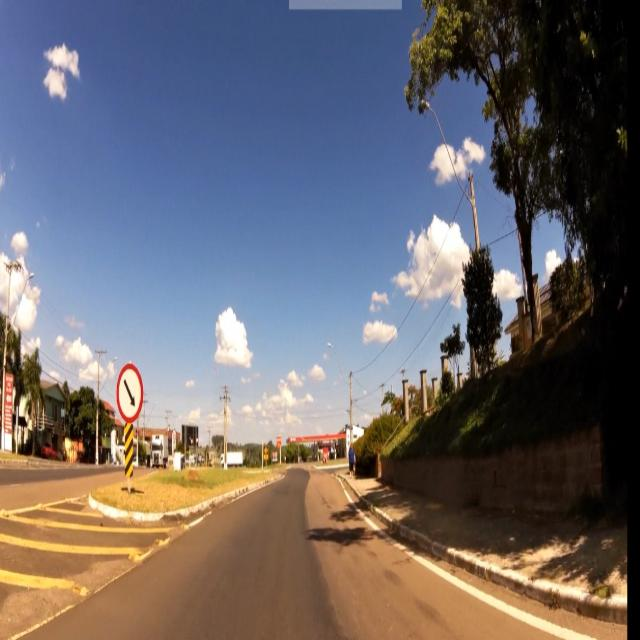R-24b: (117, 364, 145, 425)
